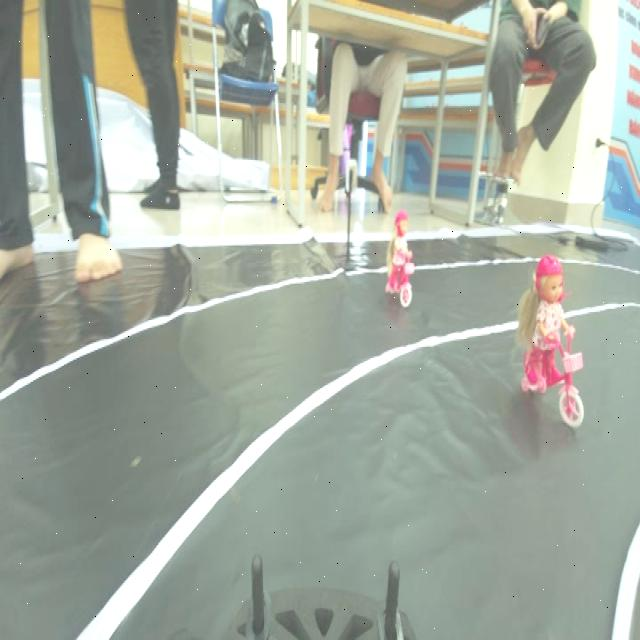pedestrian: (510, 234, 590, 428), (376, 198, 420, 311)
